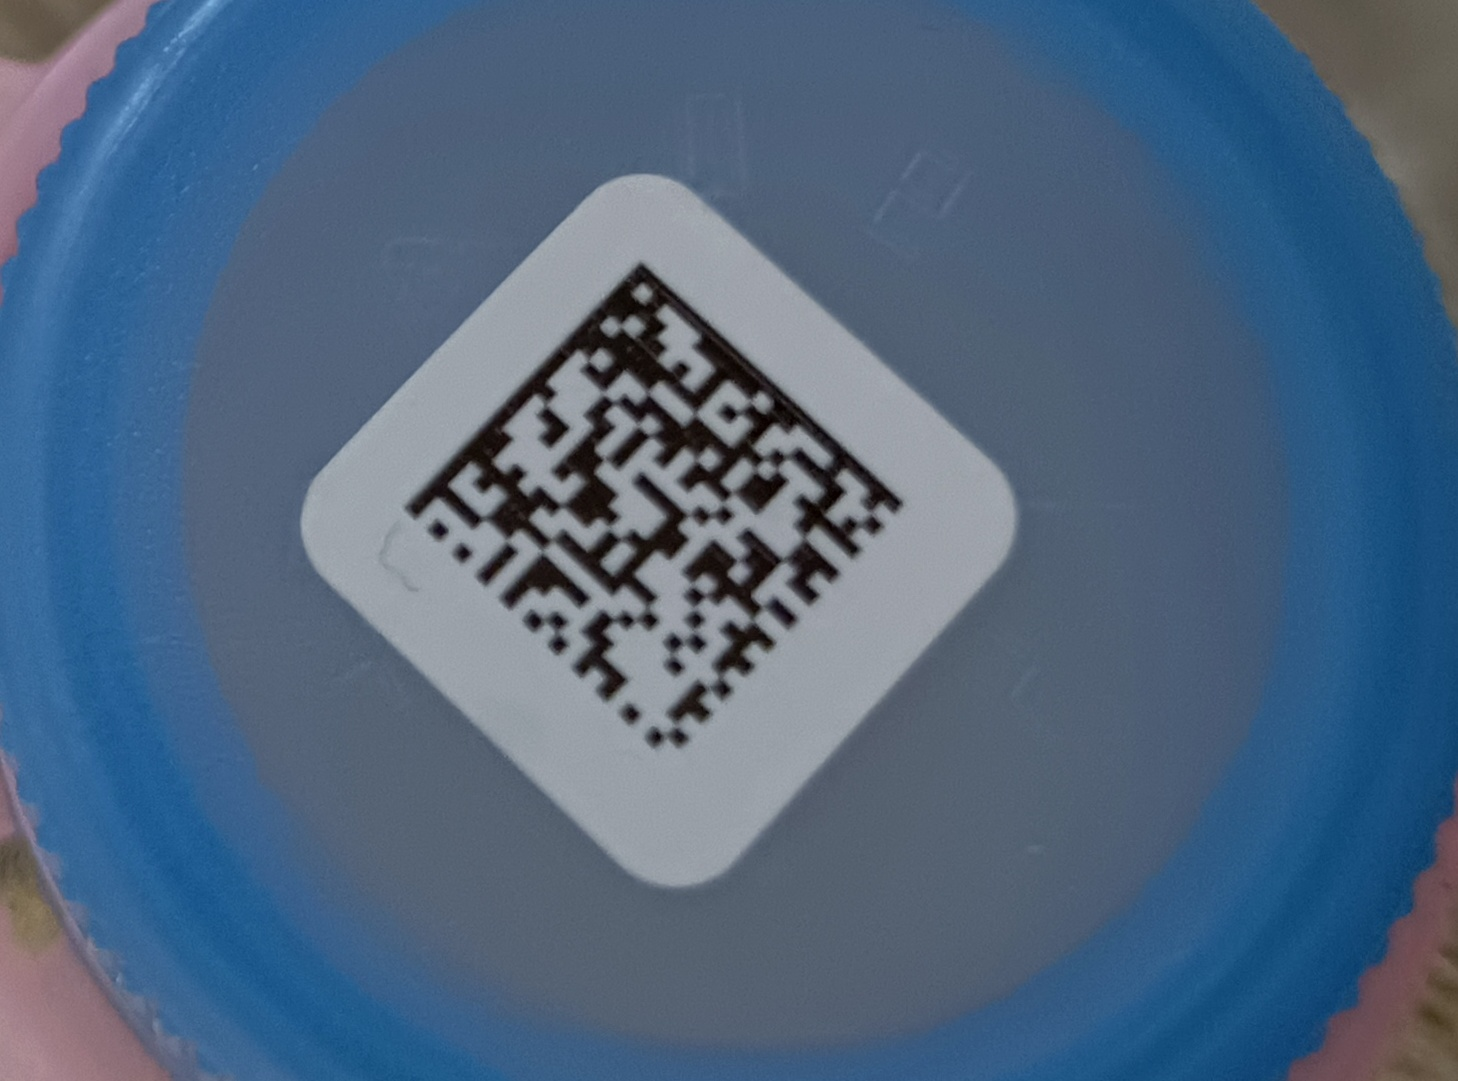2d: (397, 259, 914, 759)
